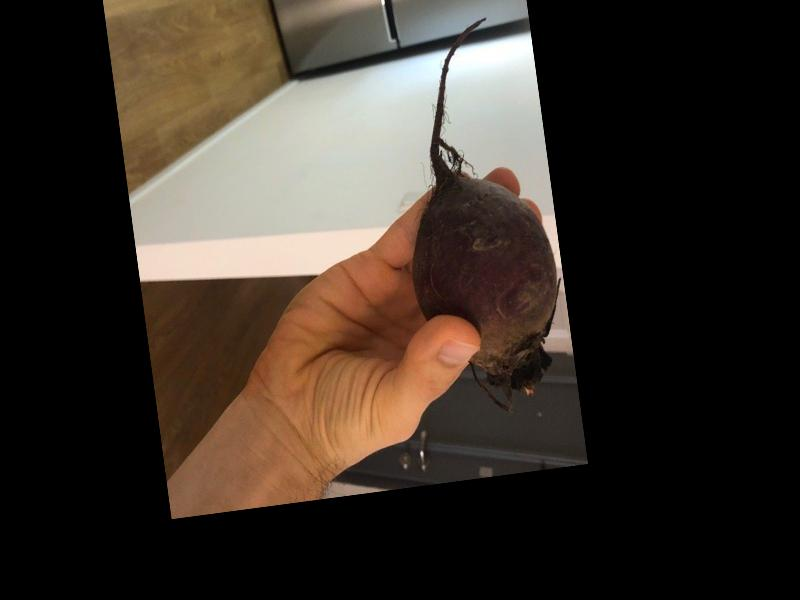Beet: (383, 13, 576, 421)
